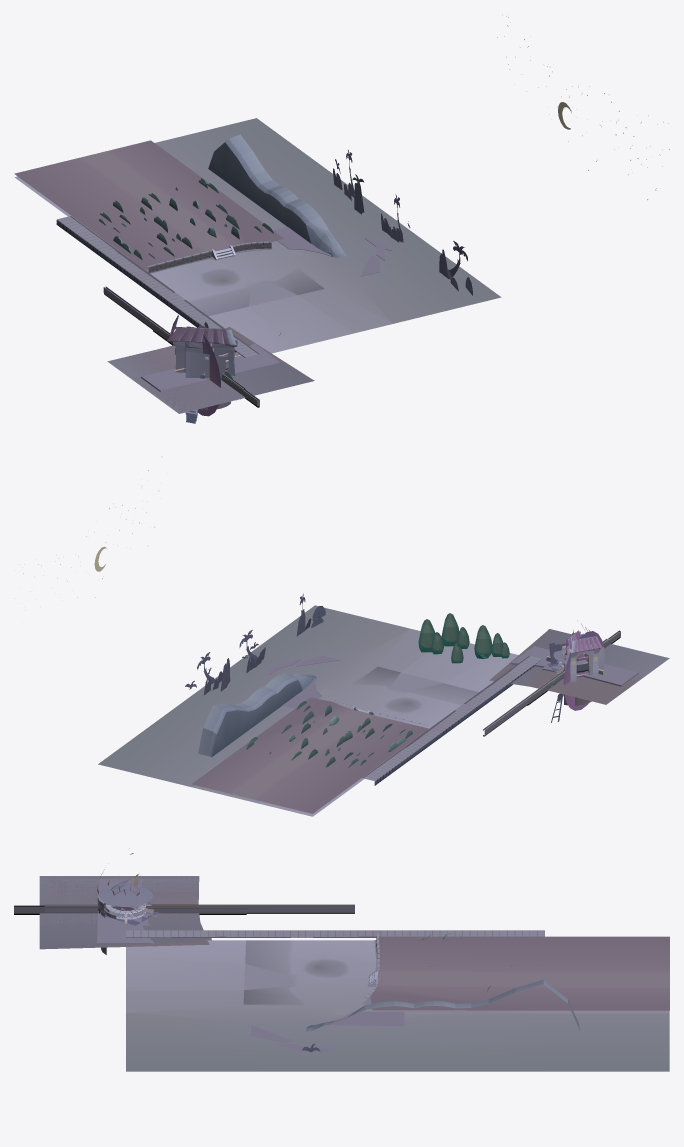
The model's file is Becca_Yard_Flattened.glb.
3 renders of one model, top to bottom at view 1: azimuth 30°, elevation 25°; view 2: azimuth 150°, elevation 25°; view 3: azimuth 270°, elevation 25°, orthographic. The views are drawn at different scales.
Visible parts, largest first — view 1: Static_Elements, Garden_Mud_L1_G, Garden_Ground_L2_L3_L4_L5_G, Garden_WallShadow_L0_L1_L2_L3_L4_L5, House_Roof_L1_L2_L3_L4_L5_G, House_Construction_L0_G, House_HouseA_L1_L2_L3_L4_L5_G; view 2: Static_Elements, Background_Bush, Garden_MudGround_L0_G, Garden_Mud_L1_G, Garden_WallShadow_L0_L1_L2_L3_L4_L5, Garden_FenceSLD_L1_L2_L3_L4_L5_G; view 3: Static_Elements, Garden_Mud_L1_G, Garden_Ground_L2_L3_L4_L5_G, Garden_FenceSLD_L1_L2_L3_L4_L5_G, Garden_WallShadow_L0_L1_L2_L3_L4_L5, ChillingPlace_Terrace_L0_L1_G, Garden_MudGround_L0_G, Garden_FenceA_L0_G, Garden_FenceSRC_L1_L2_L3_L4_L5_G.
Part boxes in pixels (bbox=[...]): Static_Elements: bbox=[14, 118, 501, 357]; Garden_Mud_L1_G: bbox=[107, 338, 314, 413]; Garden_Ground_L2_L3_L4_L5_G: bbox=[118, 345, 273, 412]; Garden_WallShadow_L0_L1_L2_L3_L4_L5: bbox=[141, 343, 279, 391]; House_Roof_L1_L2_L3_L4_L5_G: bbox=[167, 315, 236, 345]; House_Construction_L0_G: bbox=[185, 351, 225, 379]; House_HouseA_L1_L2_L3_L4_L5_G: bbox=[184, 340, 237, 375]; Static_Elements: bbox=[98, 593, 541, 816]; Background_Bush: bbox=[418, 613, 509, 663]; Garden_MudGround_L0_G: bbox=[489, 629, 648, 704]; Garden_Mud_L1_G: bbox=[506, 629, 669, 704]; Garden_WallShadow_L0_L1_L2_L3_L4_L5: bbox=[510, 646, 638, 686]; Garden_FenceSLD_L1_L2_L3_L4_L5_G: bbox=[483, 670, 564, 736]; Static_Elements: bbox=[126, 930, 669, 1071]; Garden_Mud_L1_G: bbox=[39, 876, 211, 949]; Garden_Ground_L2_L3_L4_L5_G: bbox=[39, 877, 211, 947]; Garden_FenceSLD_L1_L2_L3_L4_L5_G: bbox=[146, 904, 354, 913]; Garden_WallShadow_L0_L1_L2_L3_L4_L5: bbox=[97, 878, 154, 943]; ChillingPlace_Terrace_L0_L1_G: bbox=[97, 884, 153, 917]; Garden_MudGround_L0_G: bbox=[40, 881, 209, 948]; Garden_FenceA_L0_G: bbox=[14, 905, 114, 914]; Garden_FenceSRC_L1_L2_L3_L4_L5_G: bbox=[44, 904, 113, 912].
Bounding box in the file's own units: 26.35 × 8.5 × 25.32.
